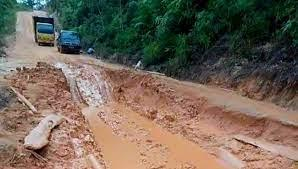Pothole: (42, 58, 298, 169)
